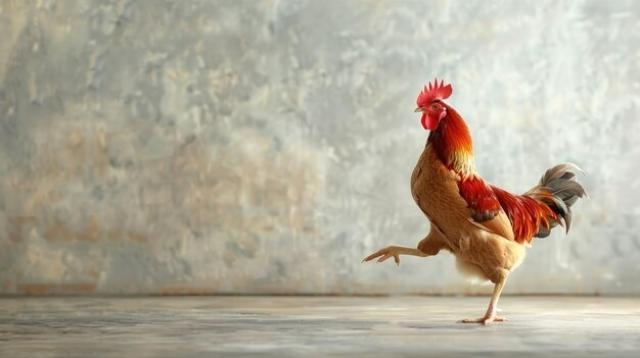Chicken: (362, 78, 591, 326)
